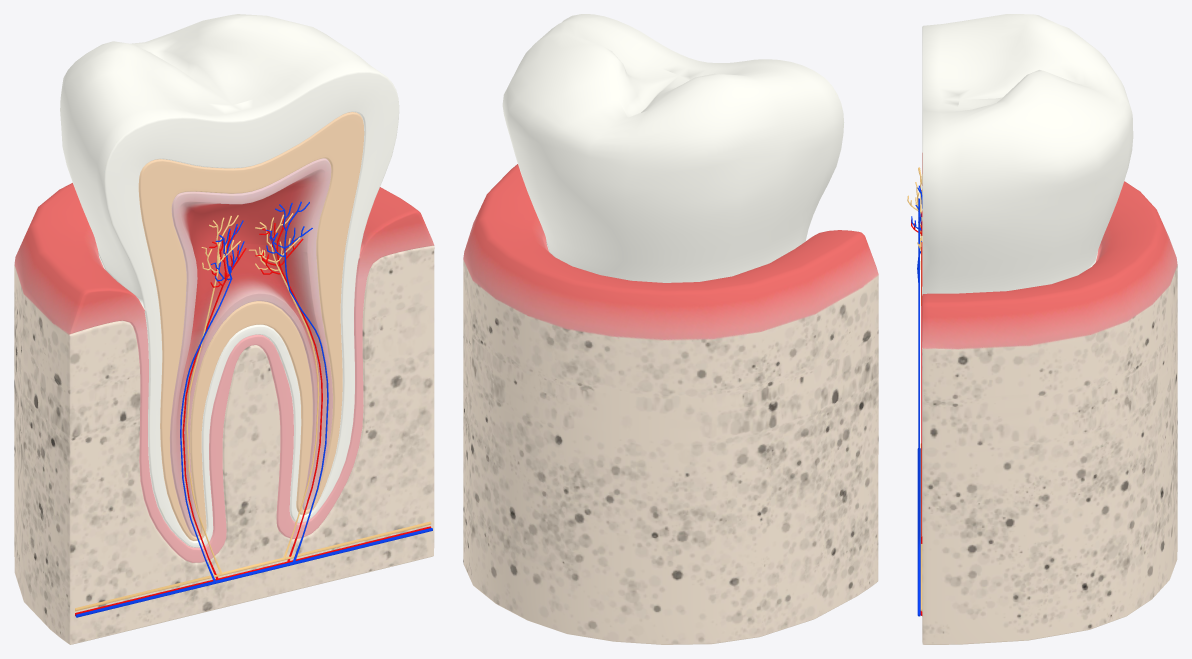
The model's file is raiz.glb.
3 views of the same model, side by side, from view 1: azimuth 30°, elevation 25°; view 2: azimuth 150°, elevation 25°; view 3: azimuth 270°, elevation 25° (orthographic). The views are drawn at different scales.
Visible parts, largest first — view 1: tooth section_tooth_0, Enamel_tooth_0, Dentin_tooth_0, Pulp_tooth_0, Gum (gingiva)_tooth_0, Periodontal ligament_tooth_0, Cementum_tooth_0, blood vessels_tooth_0, nerve_tooth_0; view 2: tooth section_tooth_0, Enamel_tooth_0, Gum (gingiva)_tooth_0; view 3: tooth section_tooth_0, Enamel_tooth_0, Gum (gingiva)_tooth_0, blood vessels_tooth_0, nerve_tooth_0.
Part boxes in pixels (<box>): tooth section_tooth_0: <box>14,245,434,644</box>; Enamel_tooth_0: <box>60,14,399,299</box>; Dentin_tooth_0: <box>139,112,364,540</box>; Pulp_tooth_0: <box>169,158,332,536</box>; Gum (gingiva)_tooth_0: <box>14,183,434,334</box>; Periodontal ligament_tooth_0: <box>136,277,366,562</box>; Cementum_tooth_0: <box>98,245,360,547</box>; blood vessels_tooth_0: <box>75,201,432,617</box>; nerve_tooth_0: <box>75,219,431,615</box>; tooth section_tooth_0: <box>463,260,878,644</box>; Enamel_tooth_0: <box>502,14,844,282</box>; Gum (gingiva)_tooth_0: <box>463,164,878,339</box>; tooth section_tooth_0: <box>922,266,1177,644</box>; Enamel_tooth_0: <box>922,14,1133,295</box>; Gum (gingiva)_tooth_0: <box>922,153,1177,349</box>; blood vessels_tooth_0: <box>907,167,922,616</box>; nerve_tooth_0: <box>911,190,922,615</box>.
Bounding box in the file's own units: 4.68 × 6.48 × 3.14.
2 materials, 2 textured.
